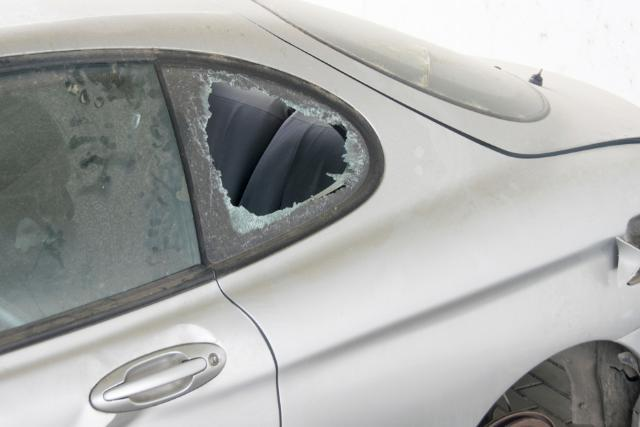Fender: (159, 53, 464, 320)
